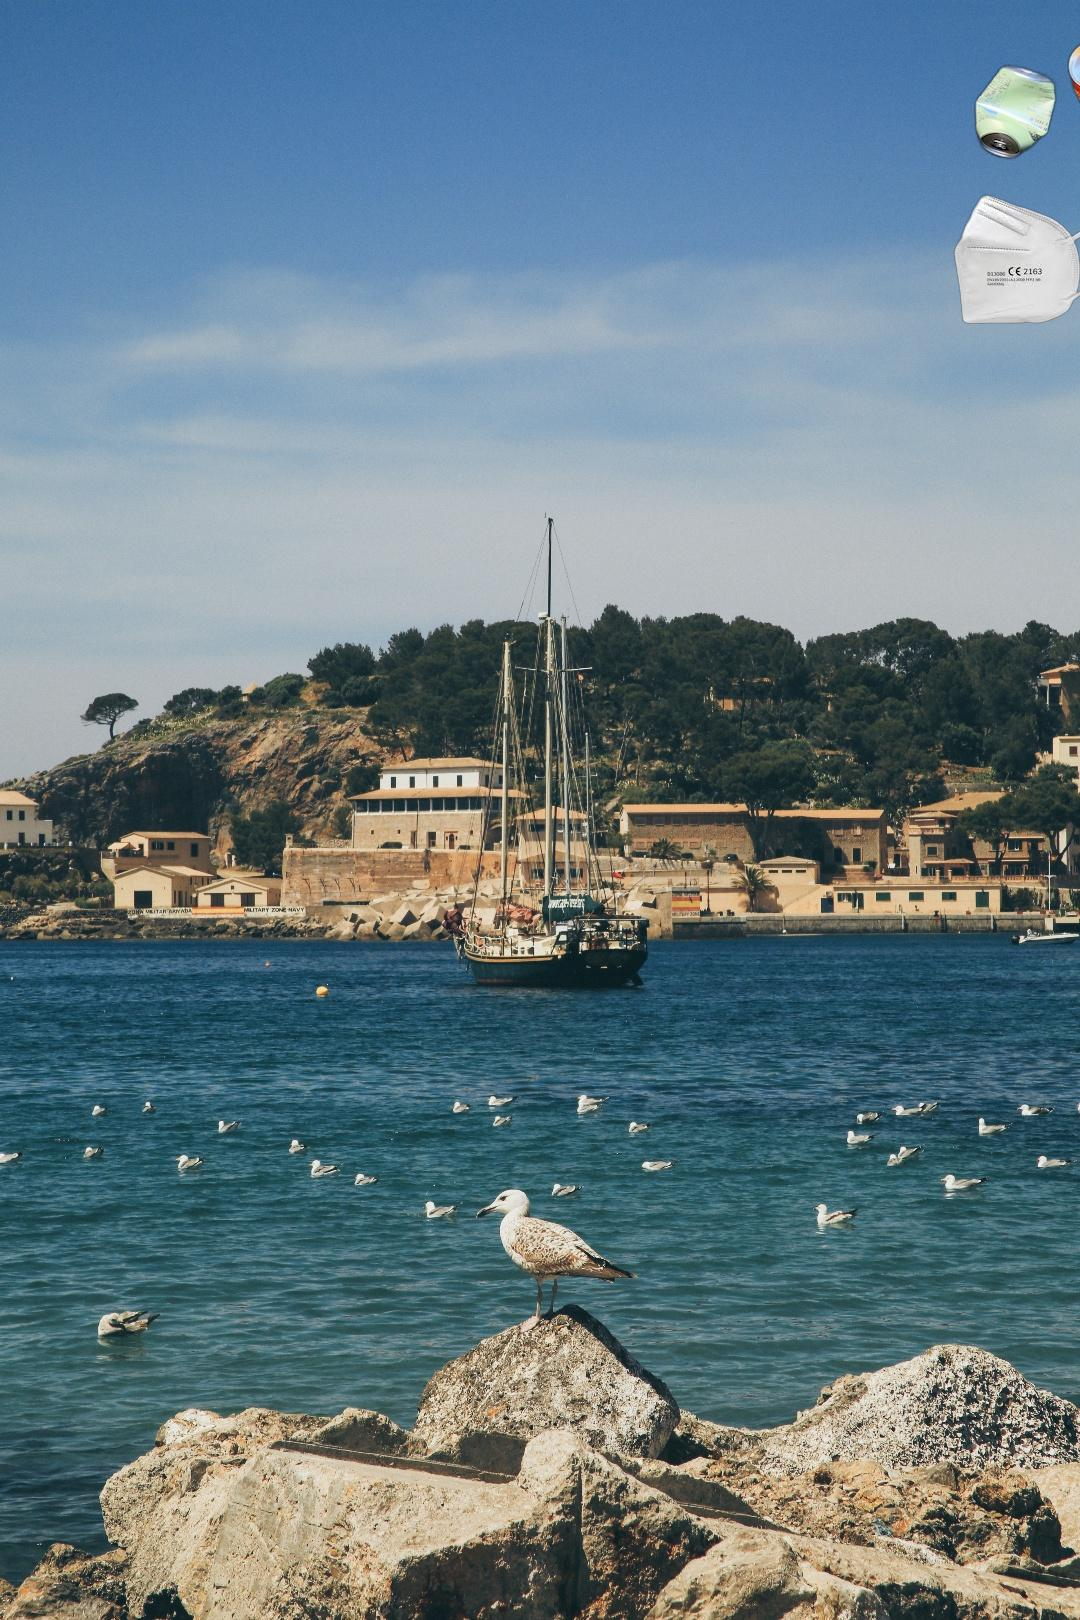metal-cans: (972, 59, 1061, 164), (1063, 35, 1080, 151)
trash: (951, 188, 1080, 325)
